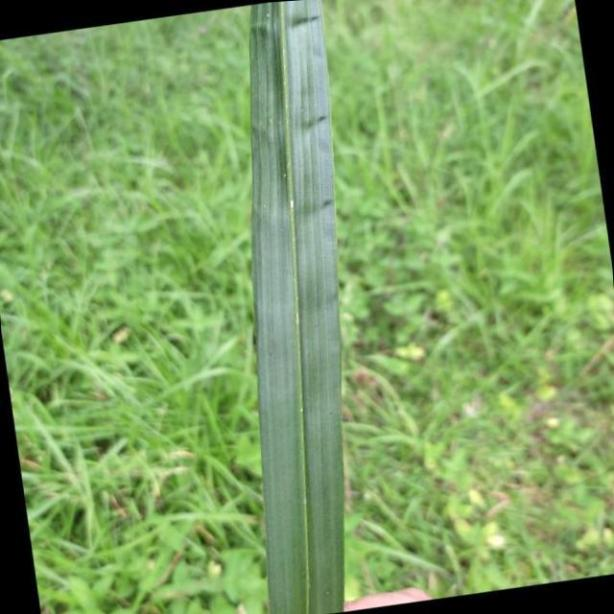Boron: (248, 0, 350, 614)
